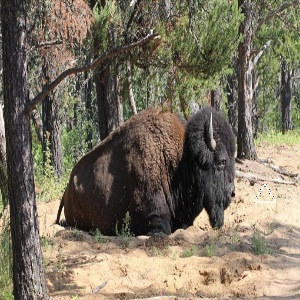triangle: (252, 181, 279, 206)
